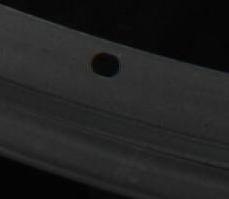holes: (91, 51, 121, 78)
